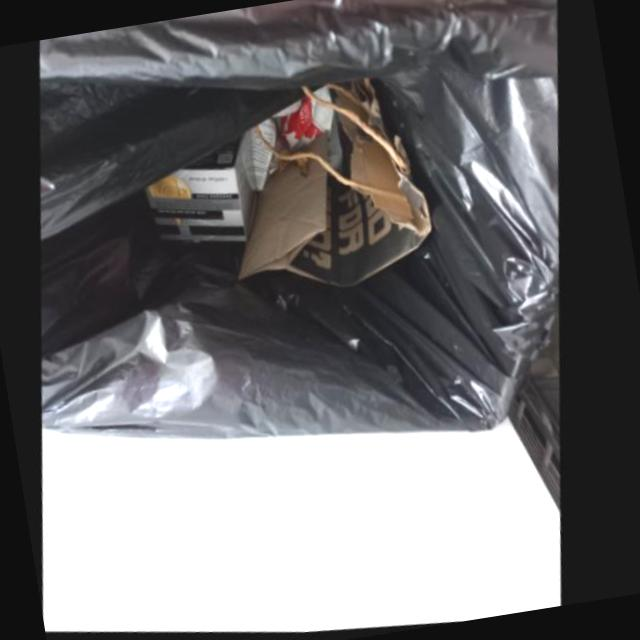carton: (151, 135, 262, 249)
giay: (246, 81, 438, 290)
vo_hop_sua: (278, 88, 339, 158)
